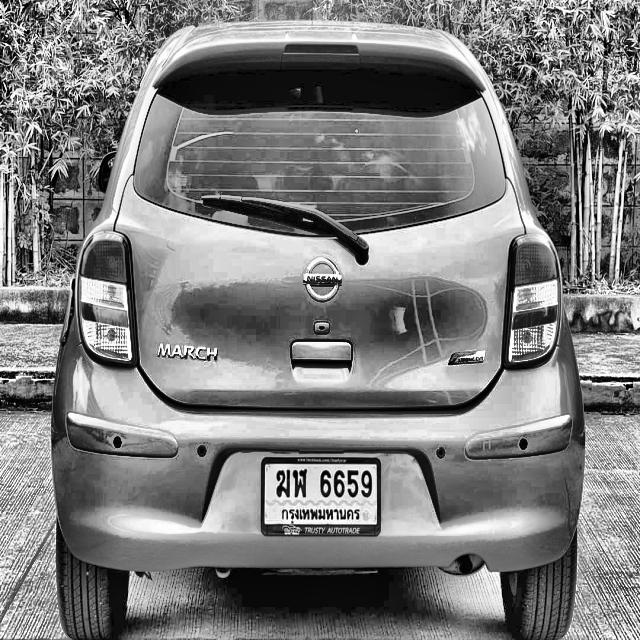license-plate: (260, 456, 382, 539)
